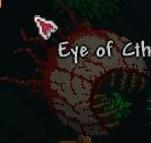eyeC: (0, 1, 151, 143)
